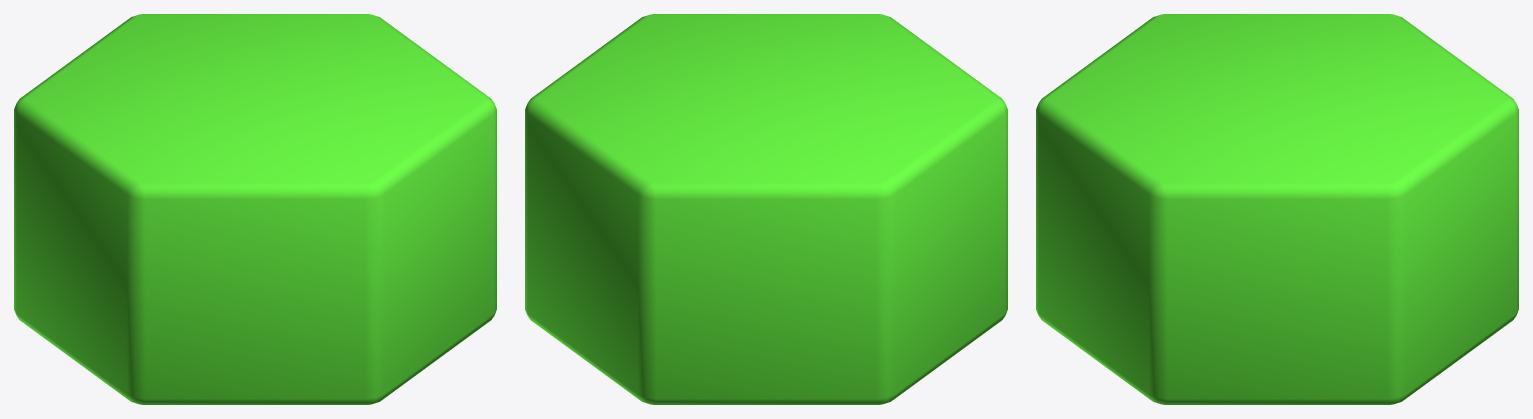
File: grass.glb
The picture shows the model from 3 angles, left to right: view 1: azimuth 30°, elevation 25°; view 2: azimuth 150°, elevation 25°; view 3: azimuth 270°, elevation 25°; orthographic projection.
Visible parts, largest first — view 1: grass; view 2: grass; view 3: grass.
Boxes of the visible parts, left/top/right/bottom form: grass: left=14, top=14, right=496, bottom=404; grass: left=525, top=14, right=1007, bottom=404; grass: left=1036, top=14, right=1518, bottom=404.
Bounding box in the file's own units: 6.93 × 4 × 7.9.
